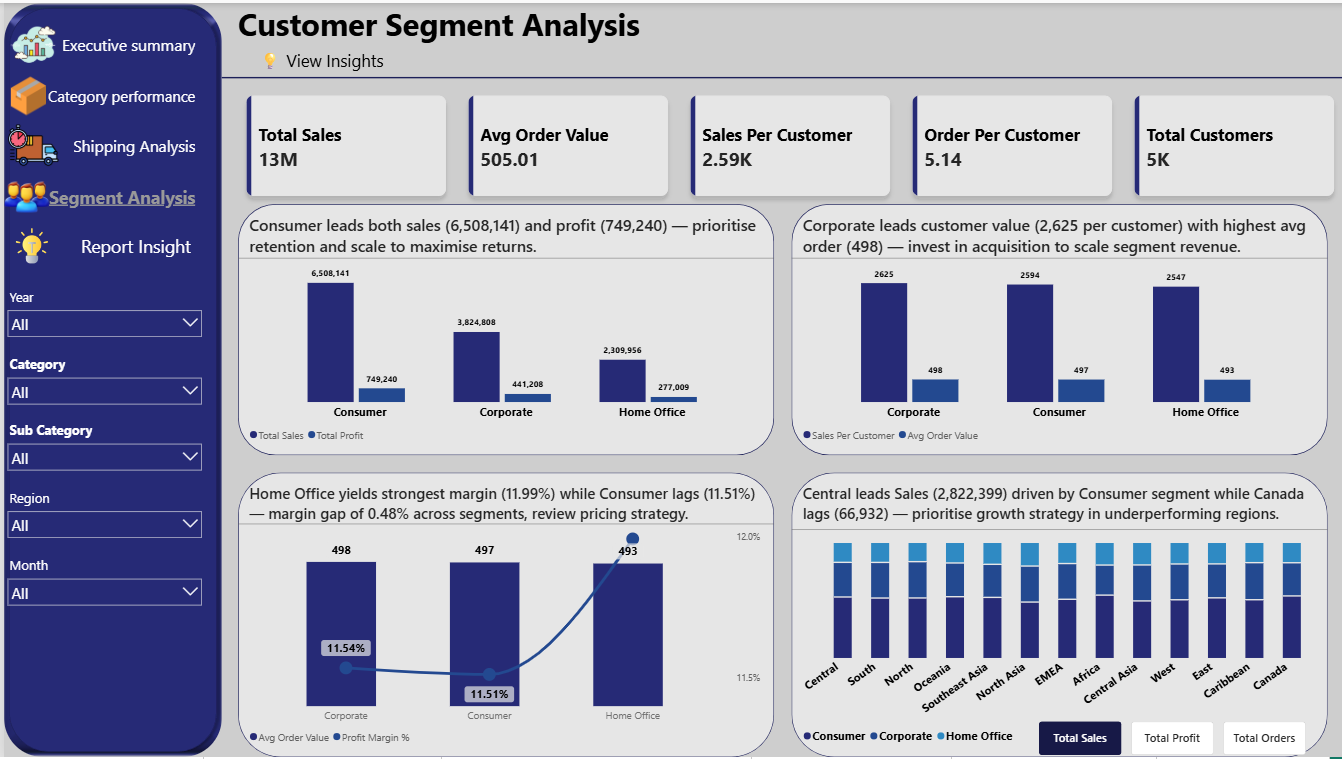

What the dashboard file says about the page in this screenshot:
{"tool":"powerbi","page":{"name":"Segment Analysis","canvas":[1920,1080],"ordinal":4},"visuals":[{"type":"image","box":[0,0,312,1080],"z":0,"group":"g11"},{"type":"group","id":"g1","title":"Group 8","box":[0,24,274.2,288],"z":0,"group":"g12"},{"type":"group","id":"g2","title":"Group 6","box":[0,24,84.4,288],"z":0,"group":"g1"},{"type":"shape","box":[0,24,274.2,72],"z":0,"group":"g4"},{"type":"actionButton","box":[0,24,288,72],"z":0,"group":"g5"},{"type":"shape","box":[312,70,1608,72],"z":0,"group":"g10"},{"type":"image","box":[0,168,84.4,72],"z":0,"group":"g2"},{"type":"shape","box":[336,288,768,360],"z":0,"group":"g6"},{"type":"group","id":"g3","title":"Group 1","box":[1128,288,768,360],"z":0},{"type":"shape","box":[1128,288,768,360],"z":0,"group":"g3"},{"type":"shape","box":[336,672,768,408],"z":0,"group":"g8"},{"type":"shape","box":[1128,672,768,408],"z":0,"group":"g9"},{"type":"slicer","fields":{"Values":["Superstore Data.Region"]},"box":[0,696,288,72],"z":0,"group":"g7"},{"type":"shape","box":[0,0,312,1080],"z":1000,"group":"g11"},{"type":"shape","box":[336,0,672,72],"z":1000,"group":"g10"},{"type":"group","id":"g4","title":"Group 7","box":[0,24,274.2,288],"z":1000,"group":"g1"},{"type":"group","id":"g5","title":"Group 9","box":[0,24,288,288],"z":1000,"group":"g12"},{"type":"image","box":[0,96,70,72],"z":1000,"group":"g2"},{"type":"shape","box":[0,96,274.2,72],"z":1000,"group":"g4"},{"type":"actionButton","box":[0,96,288,72],"z":1000,"group":"g5"},{"type":"group","id":"g6","title":"Group 2","box":[0,240,1104,408],"z":1000},{"type":"clusteredColumnChart","fields":{"Category":["Superstore Data.Segment"],"Y":["Calculated Measures.Total Sales","Calculated Measures.Total Profit"]},"box":[336,288,768,360],"z":1000,"group":"g6"},{"type":"clusteredColumnChart","fields":{"Y":["Calculated Measures.Sales Per Customer","Calculated Measures.Avg Order Value"],"Category":["Superstore Data.Segment"]},"box":[1128,288,768,360],"z":1000,"group":"g3"},{"type":"slicer","fields":{"Values":["Date_Table.Year"]},"box":[0,408,288,72],"z":1000,"group":"g7"},{"type":"lineClusteredColumnComboChart","fields":{"Category":["Superstore Data.Segment"],"Y":["Calculated Measures.Avg Order Value"],"Y2":["Calculated Measures.Profit Margin %"]},"box":[336,672,768,408],"z":1000,"group":"g8"},{"type":"hundredPercentStackedColumnChart","fields":{"Y":["Calculated Measures.Total Sales"],"Category":["Superstore Data.Region"],"Series":["Superstore Data.Segment"]},"box":[1128,672,768,408],"z":1000,"group":"g9"},{"type":"actionButton","box":[0,168,288,72],"z":2000,"group":"g5"},{"type":"actionButton","box":[0,240,312,72],"z":2000,"group":"g6"},{"type":"image","box":[0,240,65,72],"z":2000,"group":"g2"},{"type":"shape","box":[0,240,274.2,72],"z":2000,"group":"g4"},{"type":"group","id":"g7","title":"Filter Panel","box":[0,408,288,456],"z":2000,"group":"g11"},{"type":"slicer","fields":{"Values":["Superstore Data.Sub Category"]},"box":[0,600,288,72],"z":2000,"group":"g7"},{"type":"group","id":"g8","title":"Group 4","box":[336,672,768,408],"z":2000},{"type":"advancedSlicerVisual","fields":{"Values":["Metric Switch.Metric Switch"]},"box":[1482,1030,384,48],"z":2000,"group":"g10"},{"type":"image","box":[0,24,84.4,72],"z":3000,"group":"g2"},{"type":"shape","box":[322,58,264,48],"z":3000,"group":"g10"},{"type":"shape","box":[0,168,274.2,72],"z":3000,"group":"g4"},{"type":"actionButton","box":[0,240,288,72],"z":3000,"group":"g5"},{"type":"slicer","fields":{"Values":["Superstore Data.Category"]},"box":[0,504,288,72],"z":3000,"group":"g7"},{"type":"group","id":"g9","title":"Group 5","box":[1128,672,768,408],"z":3000},{"type":"cardVisual","fields":{"Data":["Calculated Measures.Total Sales","Calculated Measures.Avg Order Value","Calculated Measures.Sales Per Customer","Calculated Measures.Order Per Customer","Calculated Measures.Total Customers"]},"box":[336,120,1584,168],"z":4000},{"type":"slicer","fields":{"Values":["Date_Table.Month"]},"box":[0,792,288,72],"z":4000,"group":"g7"},{"type":"group","id":"g10","title":"Top Panel","box":[312,0,1608,1078],"z":5000},{"type":"group","id":"g11","title":"Side Left Panel","box":[0,0,312,1080],"z":6000},{"type":"image","box":[0,312,80,72],"z":8000,"group":"g12"},{"type":"shape","box":[0,312,268,72],"z":9000,"group":"g12"},{"type":"group","id":"g12","title":"Group 3","box":[0,24,288,360],"z":9001}]}

Visuals, with their boxes on the page's 1920x1080 design canvas (x1, y1, x2, y2). These are canvas units, not pixel positions in the 1342x759 screenshot, which may show the page scaled, cropped or inside an application window:
image: (0,0,312,1080)
"Group 8" group: (0,24,274,312)
"Group 6" group: (0,24,84,312)
shape: (0,24,274,96)
actionButton: (0,24,288,96)
shape: (312,70,1920,142)
image: (0,168,84,240)
shape: (336,288,1104,648)
"Group 1" group: (1128,288,1896,648)
shape: (1128,288,1896,648)
shape: (336,672,1104,1080)
shape: (1128,672,1896,1080)
slicer - Superstore Data.Region: (0,696,288,768)
shape: (0,0,312,1080)
shape: (336,0,1008,72)
"Group 7" group: (0,24,274,312)
"Group 9" group: (0,24,288,312)
image: (0,96,70,168)
shape: (0,96,274,168)
actionButton: (0,96,288,168)
"Group 2" group: (0,240,1104,648)
clusteredColumnChart - Superstore Data.Segment x Calculated Measures.Total Sales: (336,288,1104,648)
clusteredColumnChart - Calculated Measures.Sales Per Customer x Calculated Measures.Avg Order Value: (1128,288,1896,648)
slicer - Date_Table.Year: (0,408,288,480)
lineClusteredColumnComboChart - Superstore Data.Segment x Calculated Measures.Avg Order Value: (336,672,1104,1080)
hundredPercentStackedColumnChart - Calculated Measures.Total Sales x Superstore Data.Region: (1128,672,1896,1080)
actionButton: (0,168,288,240)
actionButton: (0,240,312,312)
image: (0,240,65,312)
shape: (0,240,274,312)
"Filter Panel" group: (0,408,288,864)
slicer - Superstore Data.Sub Category: (0,600,288,672)
"Group 4" group: (336,672,1104,1080)
advancedSlicerVisual - Metric Switch.Metric Switch: (1482,1030,1866,1078)
image: (0,24,84,96)
shape: (322,58,586,106)
shape: (0,168,274,240)
actionButton: (0,240,288,312)
slicer - Superstore Data.Category: (0,504,288,576)
"Group 5" group: (1128,672,1896,1080)
cardVisual - Calculated Measures.Total Sales x Calculated Measures.Avg Order Value: (336,120,1920,288)
slicer - Date_Table.Month: (0,792,288,864)
"Top Panel" group: (312,0,1920,1078)
"Side Left Panel" group: (0,0,312,1080)
image: (0,312,80,384)
shape: (0,312,268,384)
"Group 3" group: (0,24,288,384)
